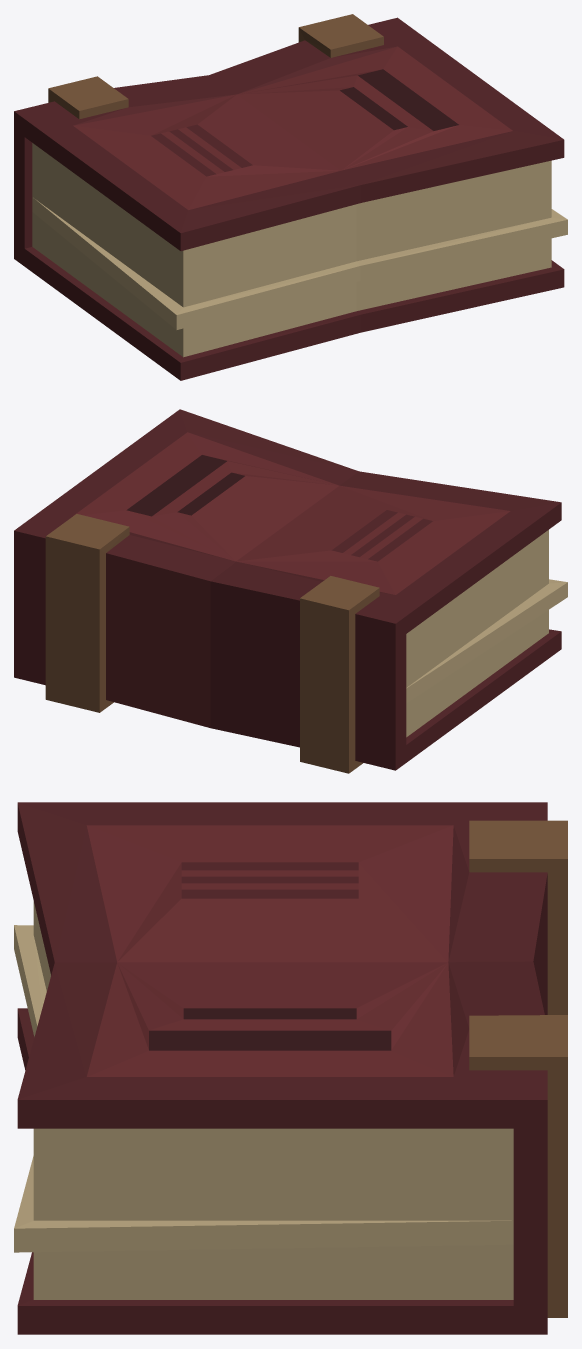
File: SM_Prop_Book_03.gltf
3 renders of one model, top to bottom at view 1: azimuth 30°, elevation 25°; view 2: azimuth 150°, elevation 25°; view 3: azimuth 270°, elevation 25°, orthographic. The views are drawn at different scales.
Visible parts, largest first — view 1: SM_Prop_Book_03; view 2: SM_Prop_Book_03; view 3: SM_Prop_Book_03.
Part boxes in pixels (<box>): SM_Prop_Book_03: <box>14,14,567,380</box>; SM_Prop_Book_03: <box>14,409,567,773</box>; SM_Prop_Book_03: <box>14,802,567,1334</box>.
Size of the model in its own units: 0.3778 by 0.1515 by 0.2914.
Materials: 1 (1 with a texture image).
